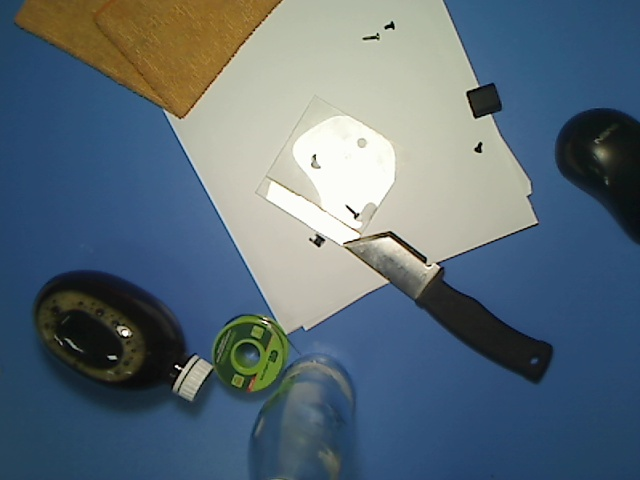plast_bottle: (29, 265, 222, 406)
